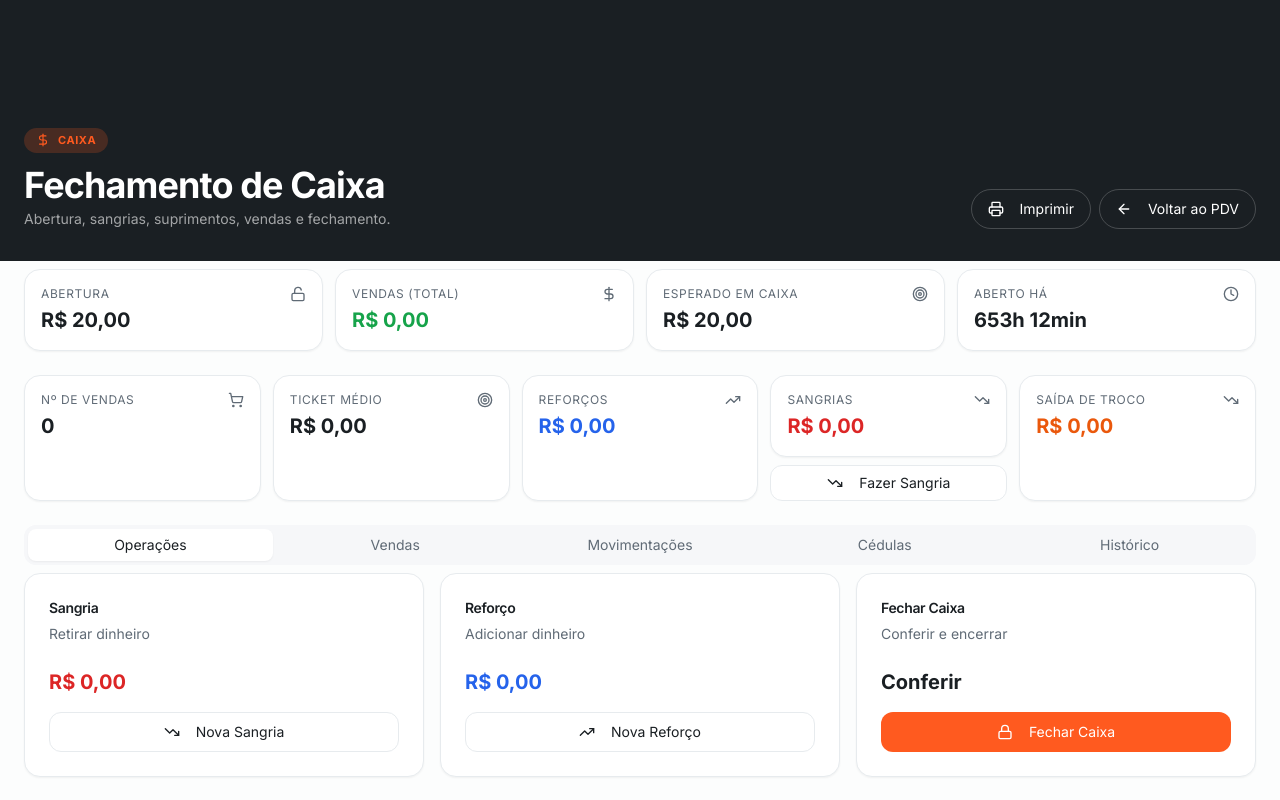
Test: reforço do caixa por cédulas › não permite confirmar reforço vazio
Click the button "Nova Reforço". click: (640, 732)
box: [465,712,815,752]
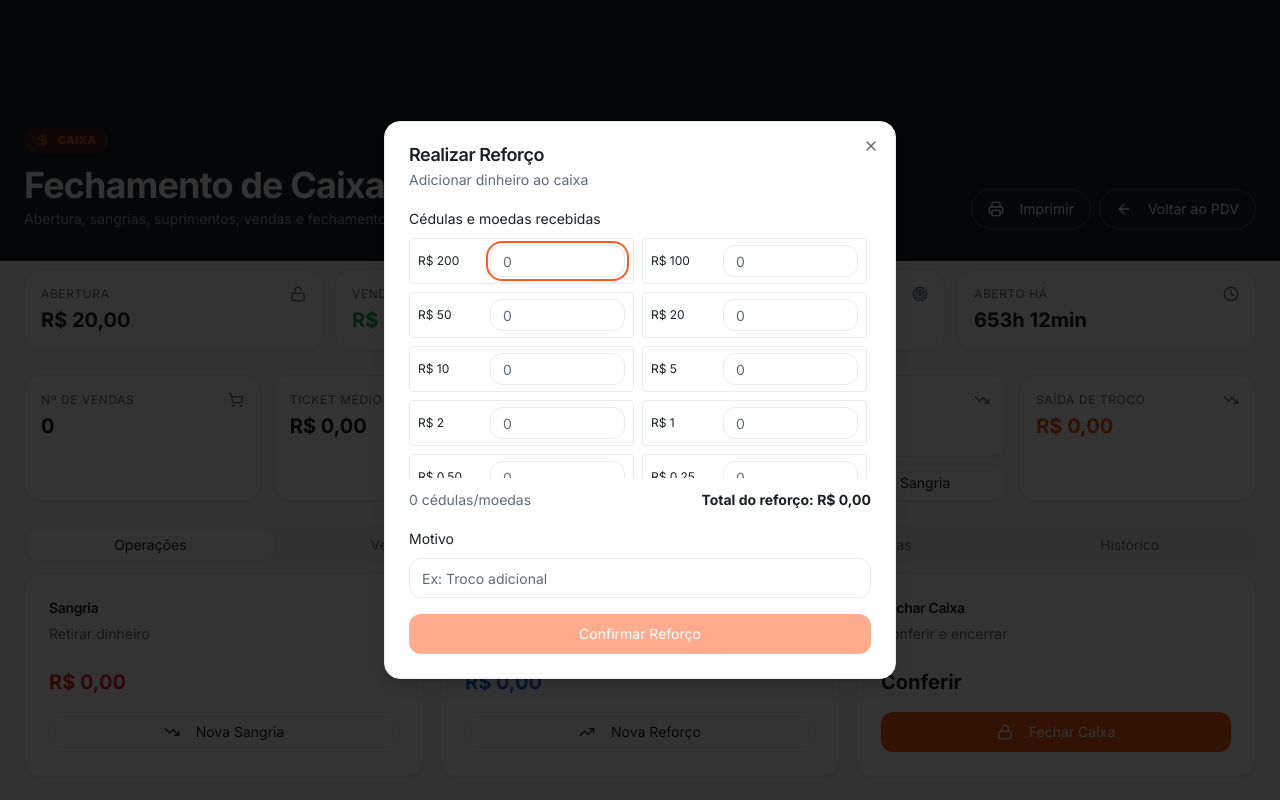
Check: the button "Confirmar Reforço" is disabled, box [409,614,871,654]
